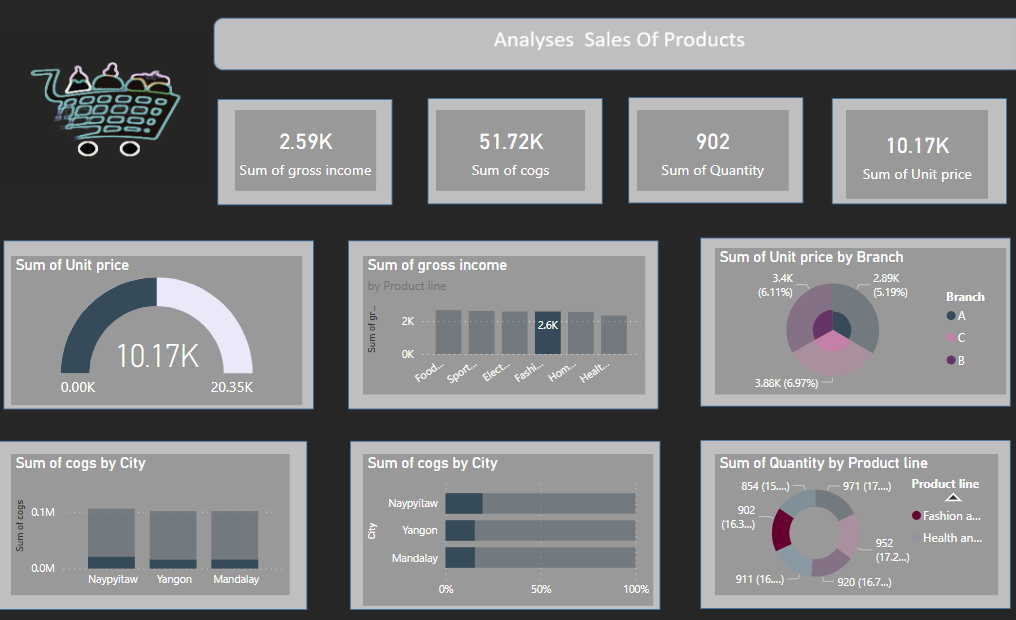

Layout of this report page (visuals, bound fields, positions):
{"tool":"powerbi","page":{"name":"Page 2","canvas":[1280,720],"ordinal":1},"visuals":[{"type":"image","box":[9,0,1271,720],"z":0},{"type":"donutChart","fields":{"Category":["supermarket_sales - Copy.Product line"],"Y":["Sum(supermarket_sales - Copy.Quantity)"]},"box":[857.2,521.1,319.4,159],"z":1000},{"type":"pieChart","fields":{"Category":["supermarket_sales - Copy.Branch"],"Y":["Sum(supermarket_sales - Copy.Unit price)"]},"box":[857.2,288.3,328.4,165.5],"z":2000},{"type":"columnChart","fields":{"Category":["supermarket_sales - Copy.Product line"],"Y":["Sum(supermarket_sales - Copy.gross income)"]},"box":[460.3,297.4,318.1,156.4],"z":3000},{"type":"hundredPercentStackedBarChart","fields":{"Category":["supermarket_sales - Copy.City"],"Y":["Sum(supermarket_sales - Copy.cogs)"]},"box":[460.3,521.1,327.1,170.7],"z":4000},{"type":"card","fields":{"Values":["Sum(supermarket_sales - Copy.gross income)"]},"box":[316.8,133.2,159,90.5],"z":5000},{"type":"card","fields":{"Values":["Sum(supermarket_sales - Copy.cogs)"]},"box":[543,133.2,168.1,90.5],"z":6000},{"type":"card","fields":{"Values":["Sum(supermarket_sales - Copy.Quantity)"]},"box":[769.3,133.2,170.7,90.5],"z":7000},{"type":"card","fields":{"Values":["Sum(supermarket_sales - Copy.Unit price)"]},"box":[1004.6,133.2,160.3,99.6],"z":8000},{"type":"lineClusteredColumnComboChart","fields":{"Category":["countbrachincity.City"],"Y":["Sum(supermarket_sales - Copy.cogs)"]},"box":[64.6,521.1,314.2,159],"z":9000},{"type":"gauge","fields":{"Y":["Sum(supermarket_sales - Copy.Unit price)"]},"box":[64.6,297.4,328.4,168.1],"z":10000}]}

Visuals, with their boxes on the page's 1280x720 design canvas (x1, y1, x2, y2). These are canvas units, not pixel positions in the 1016x620 screenshot, which may show the page scaled, cropped or inside an application window:
image: 9 0 1280 720
donutChart - supermarket_sales - Copy.Product line x Sum(supermarket_sales - Copy.Quantity): 857 521 1177 680
pieChart - supermarket_sales - Copy.Branch x Sum(supermarket_sales - Copy.Unit price): 857 288 1186 454
columnChart - supermarket_sales - Copy.Product line x Sum(supermarket_sales - Copy.gross income): 460 297 778 454
hundredPercentStackedBarChart - supermarket_sales - Copy.City x Sum(supermarket_sales - Copy.cogs): 460 521 787 692
card - Sum(supermarket_sales - Copy.gross income): 317 133 476 224
card - Sum(supermarket_sales - Copy.cogs): 543 133 711 224
card - Sum(supermarket_sales - Copy.Quantity): 769 133 940 224
card - Sum(supermarket_sales - Copy.Unit price): 1005 133 1165 233
lineClusteredColumnComboChart - countbrachincity.City x Sum(supermarket_sales - Copy.cogs): 65 521 379 680
gauge - Sum(supermarket_sales - Copy.Unit price): 65 297 393 466
